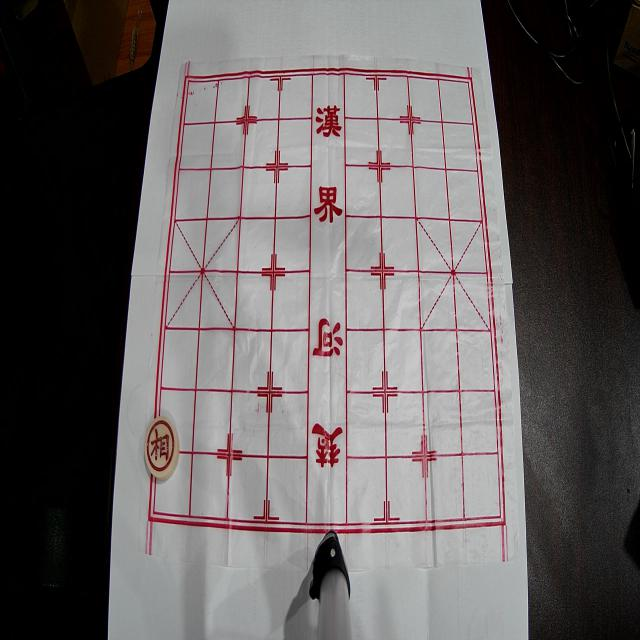red-elephant: (144, 416, 180, 480)
